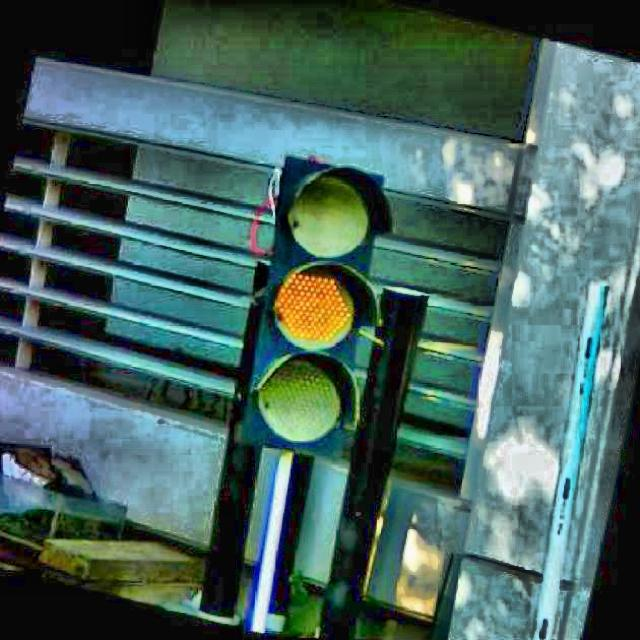yellow: (248, 155, 391, 463)
